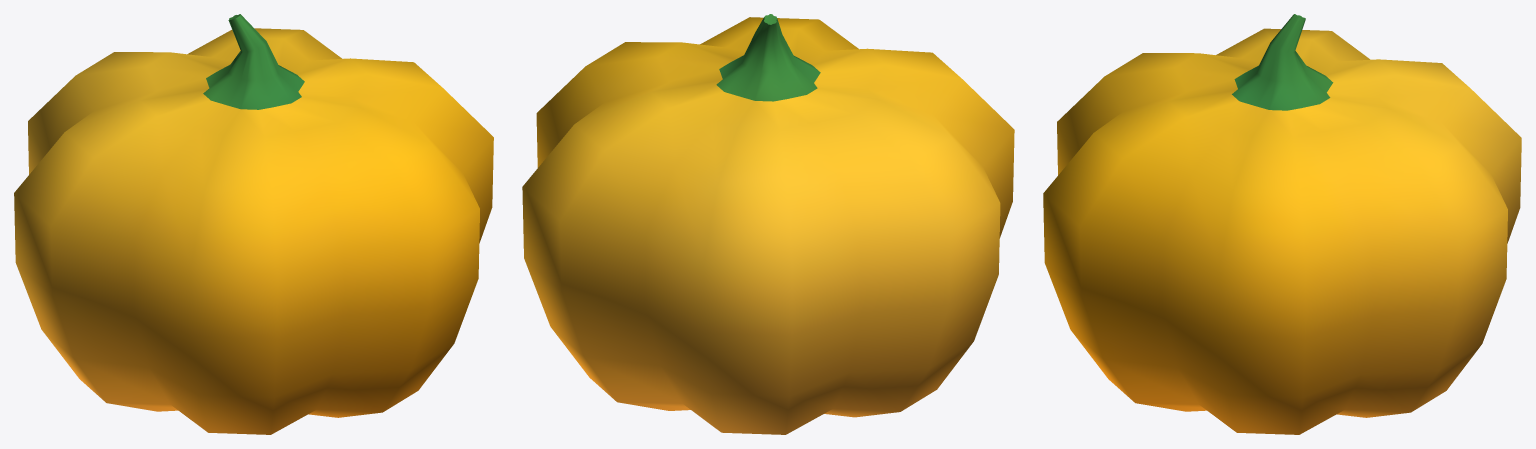
3 renders of one model, left to right at view 1: azimuth 30°, elevation 25°; view 2: azimuth 150°, elevation 25°; view 3: azimuth 270°, elevation 25°, orthographic. The views are drawn at different scales.
Visible parts, largest first — view 1: 7-18; view 2: 7-18; view 3: 7-18.
Part boxes in pixels (x1,y1,x2,y2): 7-18: (14,14,493,434); 7-18: (522,14,1014,434); 7-18: (1043,14,1521,434).
Size of the model in its own units: 17.03 by 13.83 by 16.49.
